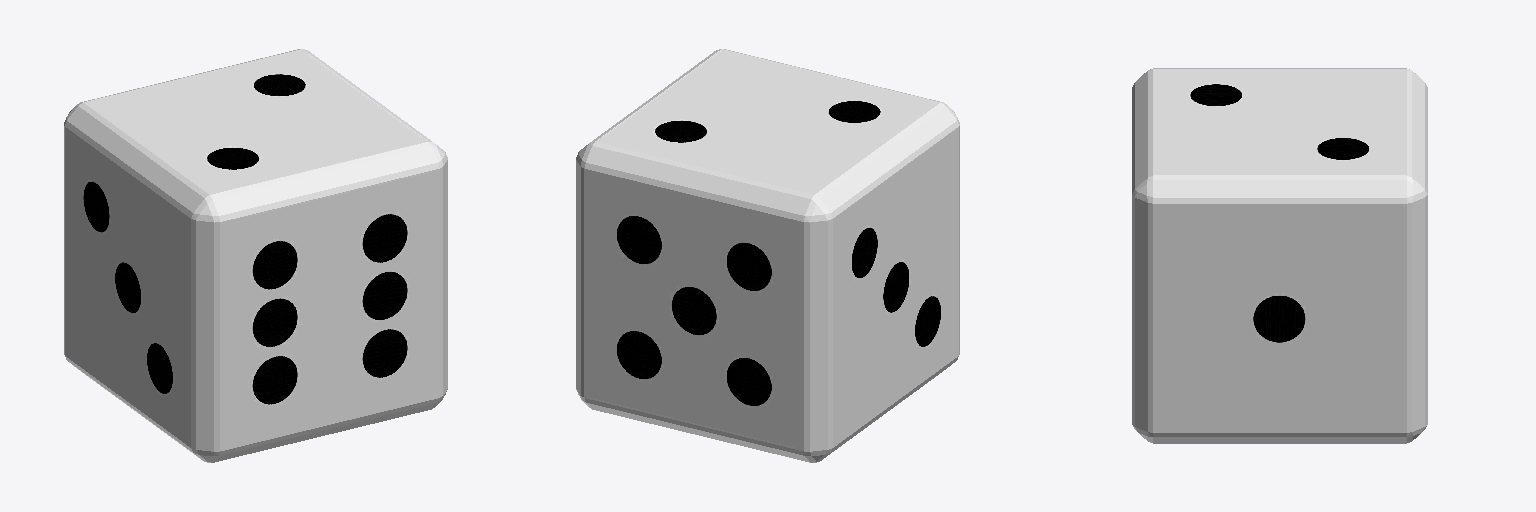
The picture shows the model from 3 angles: view 1: azimuth 30°, elevation 25°; view 2: azimuth 150°, elevation 25°; view 3: azimuth 270°, elevation 25°; orthographic projection.
Visible parts, largest first — view 1: Cube; view 2: Cube; view 3: Cube.
Part boxes in pixels (left/top/right/bottom): Cube: left=64, top=49, right=447, bottom=462; Cube: left=576, top=49, right=959, bottom=462; Cube: left=1132, top=68, right=1427, bottom=443.
Bounding box in the file's own units: 0.2538 × 0.2538 × 0.2538.
7 materials, 7 textured.